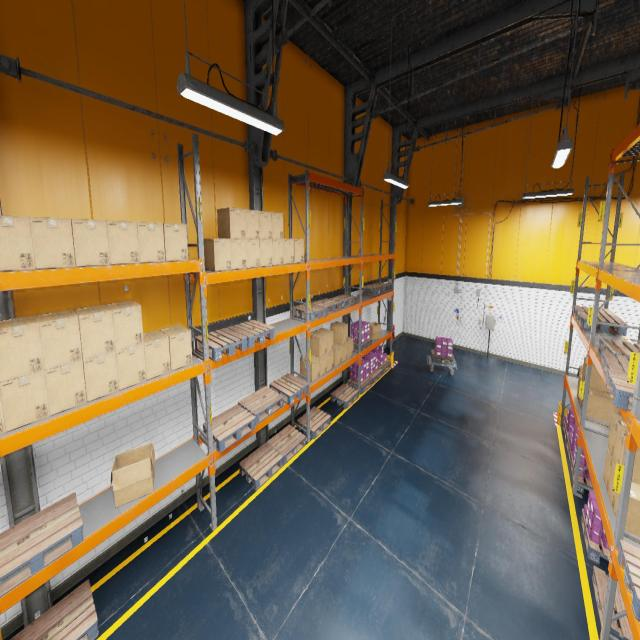box: (0, 371, 50, 432), (0, 315, 44, 382), (110, 443, 155, 508), (38, 309, 82, 370), (44, 360, 87, 416), (30, 217, 76, 269), (74, 305, 115, 359), (0, 215, 35, 271), (105, 300, 144, 350), (71, 218, 110, 266), (83, 351, 119, 402), (612, 424, 640, 484), (614, 482, 640, 544), (106, 220, 140, 264), (160, 325, 192, 371), (143, 329, 171, 380), (582, 388, 618, 427), (116, 344, 146, 390), (137, 222, 165, 262), (163, 223, 188, 261), (204, 238, 232, 271), (607, 413, 627, 459), (582, 357, 608, 392), (217, 207, 245, 239), (579, 380, 607, 410), (300, 354, 319, 382), (603, 447, 613, 495), (231, 239, 246, 269), (316, 328, 333, 353), (245, 209, 259, 239), (608, 461, 616, 513), (310, 331, 326, 357), (330, 321, 348, 344), (246, 239, 260, 268), (258, 210, 272, 238), (260, 238, 272, 266), (272, 239, 284, 265), (272, 212, 283, 238), (0, 390, 6, 434), (284, 239, 294, 264), (335, 342, 347, 362), (294, 239, 304, 263), (370, 322, 381, 341), (334, 343, 342, 366), (319, 354, 326, 377), (577, 374, 582, 402), (577, 364, 583, 387), (327, 350, 333, 372), (348, 337, 353, 359)
pallets: (0, 492, 84, 598), (10, 580, 98, 640), (592, 566, 633, 639), (203, 404, 255, 453), (239, 443, 283, 490), (618, 540, 640, 622), (195, 328, 247, 362), (238, 386, 283, 425), (581, 508, 610, 565), (266, 424, 306, 465), (228, 320, 274, 348), (269, 374, 309, 406), (577, 311, 628, 336), (606, 369, 634, 411), (598, 338, 640, 364), (297, 407, 331, 439), (570, 456, 594, 494), (600, 352, 630, 379), (331, 384, 359, 408), (573, 305, 617, 320), (293, 304, 327, 322), (310, 298, 342, 314), (347, 376, 373, 394), (431, 350, 454, 365), (331, 295, 356, 308), (362, 284, 384, 296), (353, 338, 372, 351), (370, 282, 393, 292), (369, 368, 382, 383), (566, 436, 572, 464), (378, 360, 390, 374), (563, 419, 568, 443)
